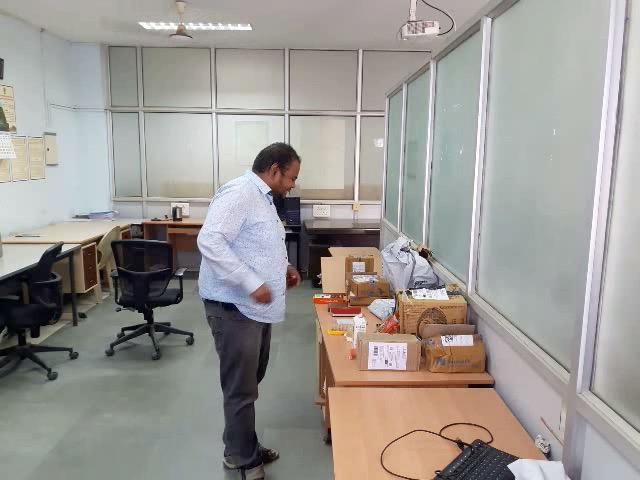shoplifting: (171, 246, 316, 364)
